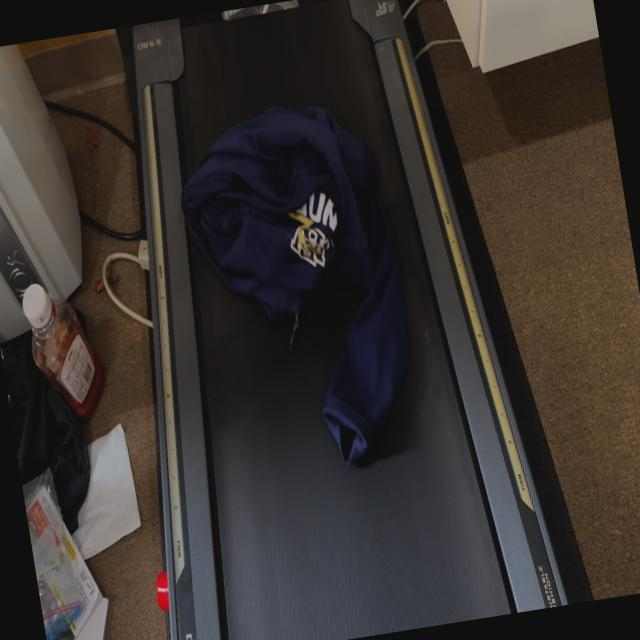Trash: (160, 68, 442, 493)
